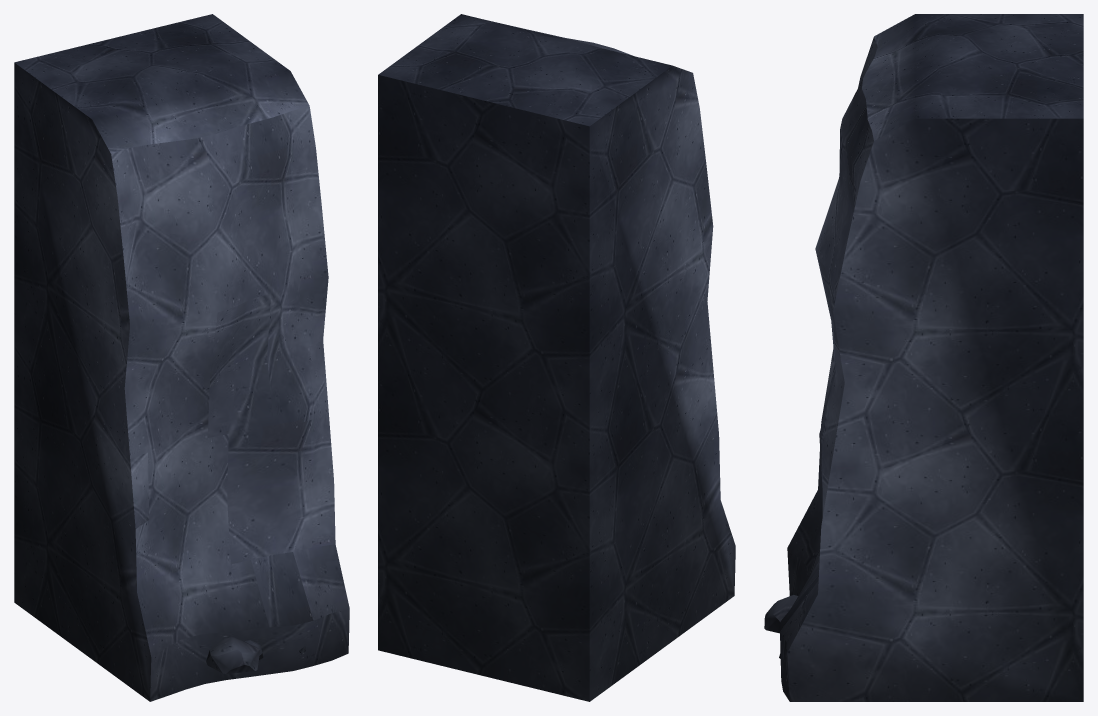
The model's file is cave_wall_b.glb.
The picture shows the model from 3 angles, left to right: view 1: azimuth 30°, elevation 25°; view 2: azimuth 150°, elevation 25°; view 3: azimuth 270°, elevation 25°; orthographic projection. The views are drawn at different scales.
Parts seen in each view (by area): view 1: cave_wall_b; view 2: cave_wall_b; view 3: cave_wall_b.
Boxes of the visible parts, x1,y1,x2,y2 form: cave_wall_b: (14,14,349,701); cave_wall_b: (378,14,735,701); cave_wall_b: (764,14,1083,701).
Bounding box in the file's own units: 1 × 2.66 × 1.29.
1 material, 1 textured.
